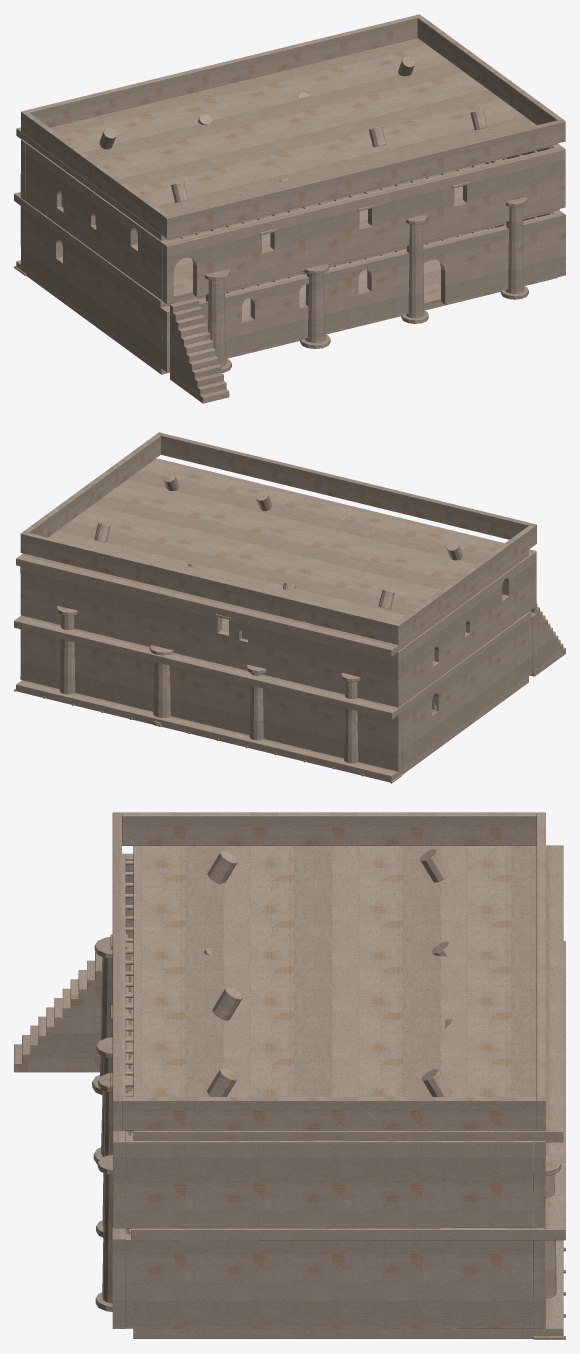
Rendered from block_20.glb.
3 renders of one model, top to bottom at view 1: azimuth 30°, elevation 25°; view 2: azimuth 150°, elevation 25°; view 3: azimuth 270°, elevation 25°, orthographic. The views are drawn at different scales.
Parts seen in each view (by area): view 1: block; view 2: block; view 3: block.
Part boxes in pixels (x1=…): block: x1=14, y1=14, x2=565, y2=403; block: x1=14, y1=432, x2=565, y2=783; block: x1=14, y1=812, x2=565, y2=1339.
Size of the model in its own units: 20.97 by 8.25 by 16.95.
Materials: 3 (3 with a texture image).
